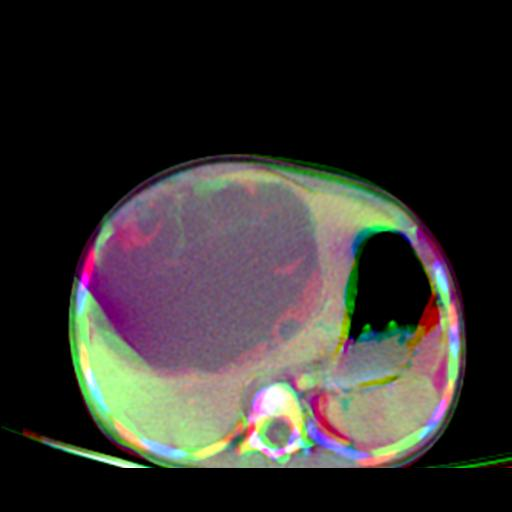Tumor: (220, 182, 318, 277)
